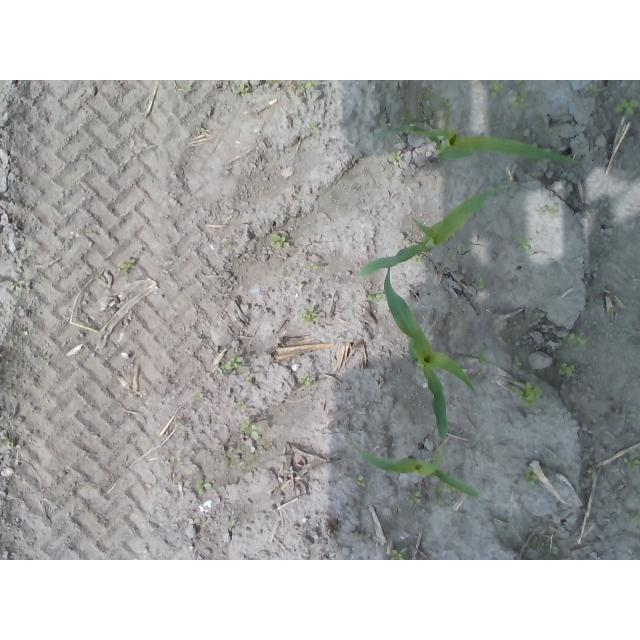Maize: (383, 267, 485, 444), (357, 182, 515, 282), (385, 123, 579, 172), (350, 444, 482, 501)
Weeds: (519, 380, 544, 406), (219, 355, 243, 376), (615, 98, 640, 113), (242, 423, 261, 442), (270, 234, 290, 251), (522, 466, 538, 487), (116, 258, 137, 273), (559, 362, 577, 379), (621, 457, 640, 472), (568, 333, 587, 348), (488, 80, 504, 97), (511, 236, 529, 251), (391, 546, 410, 560), (406, 494, 426, 507), (196, 480, 212, 495), (300, 311, 317, 325), (513, 90, 527, 106), (297, 80, 320, 89), (234, 83, 250, 94), (355, 473, 367, 487), (512, 356, 523, 369), (543, 206, 558, 215), (306, 122, 318, 132), (367, 292, 382, 300), (391, 151, 402, 161), (191, 392, 203, 401), (306, 264, 318, 273), (591, 84, 601, 93), (304, 377, 312, 386), (237, 400, 246, 408)
